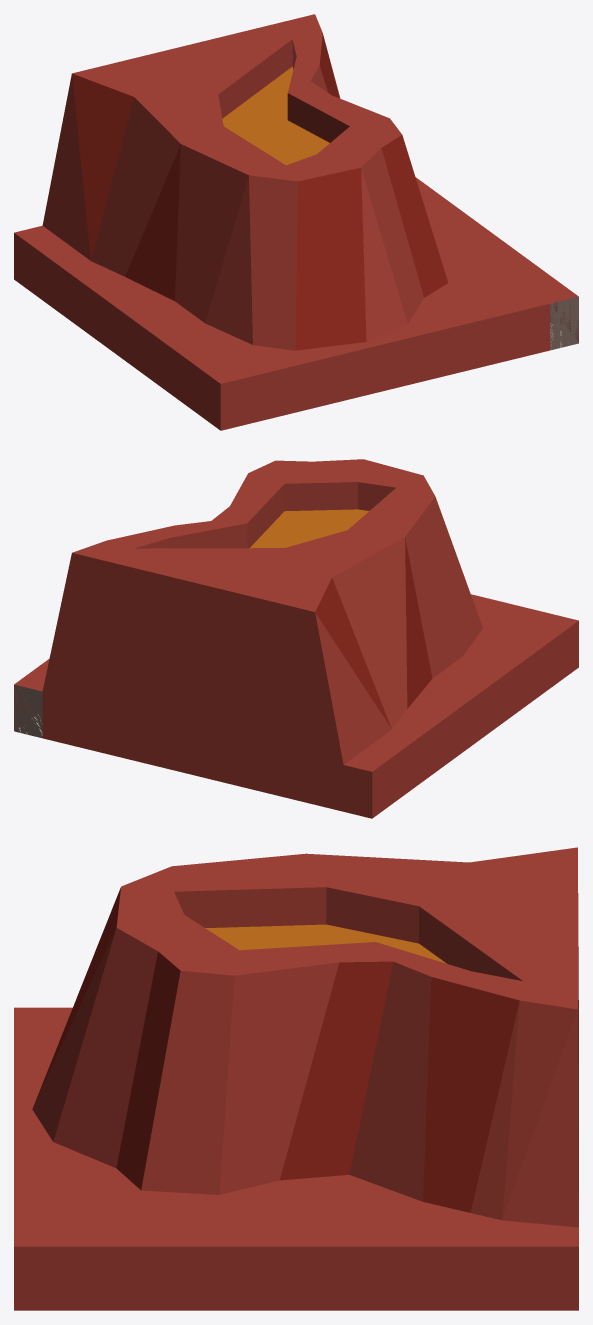
Rendered from Field_9_digged.fbx.
3 views of the same model, one above another, from view 1: azimuth 30°, elevation 25°; view 2: azimuth 150°, elevation 25°; view 3: azimuth 270°, elevation 25° (orthographic). The views are drawn at different scales.
Parts seen in each view (by area): view 1: Plane.023; view 2: Plane.023; view 3: Plane.023.
Boxes of the visible parts, x1,y1,x2,y2 form: Plane.023: [14, 14, 578, 430]; Plane.023: [14, 459, 578, 818]; Plane.023: [14, 847, 578, 1310].
Bounding box in the file's own units: 400 × 205 × 400.
